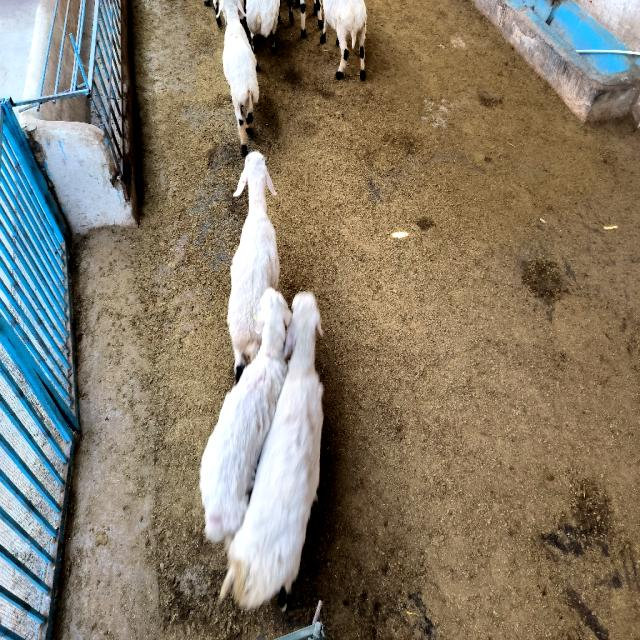sheep: (220, 292, 324, 612), (200, 288, 291, 542), (228, 152, 280, 381), (219, 0, 259, 154), (320, 0, 366, 80), (246, 0, 279, 52)
